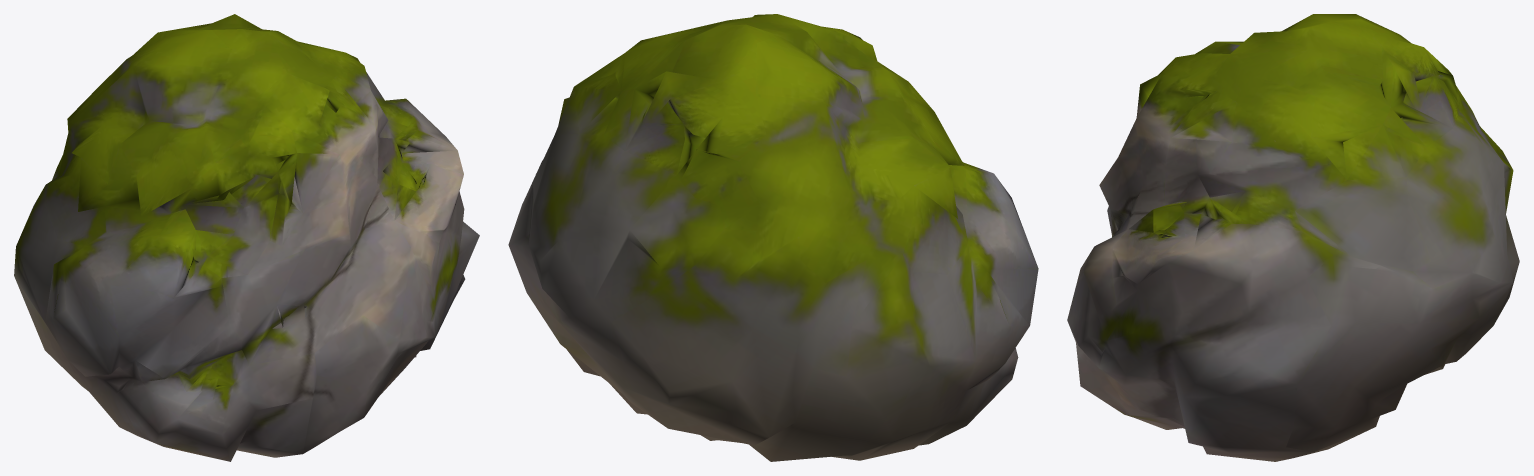
The model's file is rock.glb.
3 views of the same model, side by side, from view 1: azimuth 30°, elevation 25°; view 2: azimuth 150°, elevation 25°; view 3: azimuth 270°, elevation 25° (orthographic). The views are drawn at different scales.
Visible parts, largest first — view 1: rock; view 2: rock; view 3: rock.
Part boxes in pixels (x1,y1,x2,y2): rock: [14, 14, 479, 461]; rock: [508, 14, 1038, 461]; rock: [1067, 14, 1519, 461].
Size of the model in its own units: 1.83 by 1.6 by 1.62.
1 material, 1 textured.
